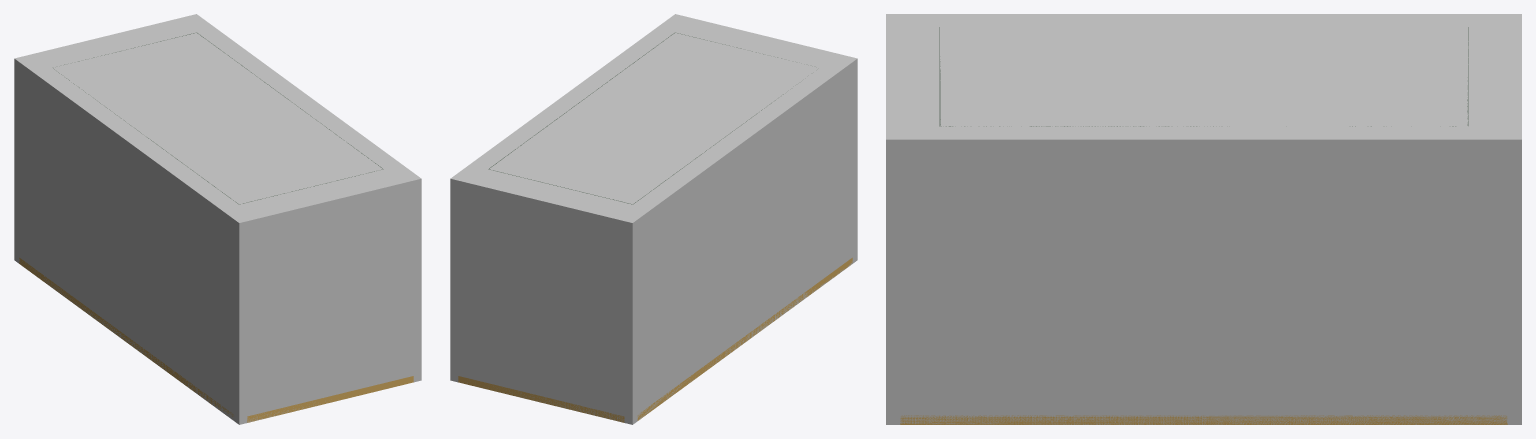
File: SM_Gun_Shop_Table.fbx
3 views of the same model, side by side, from view 1: azimuth 30°, elevation 25°; view 2: azimuth 150°, elevation 25°; view 3: azimuth 270°, elevation 25° (orthographic). The views are drawn at different scales.
Parts seen in each view (by area): view 1: SM_Gun_Shop_Table_ConvexHulls, SM_Gun_Shop_Table; view 2: SM_Gun_Shop_Table_ConvexHulls, SM_Gun_Shop_Table; view 3: SM_Gun_Shop_Table_ConvexHulls, SM_Gun_Shop_Table.
Boxes of the visible parts, box(x1,y1,x2,y2) form: SM_Gun_Shop_Table_ConvexHulls: box(14, 14, 421, 424); SM_Gun_Shop_Table: box(19, 32, 413, 422); SM_Gun_Shop_Table_ConvexHulls: box(450, 14, 857, 424); SM_Gun_Shop_Table: box(458, 32, 852, 422); SM_Gun_Shop_Table_ConvexHulls: box(886, 14, 1521, 424); SM_Gun_Shop_Table: box(900, 27, 1507, 424).
Size of the model in its own units: 103 by 221 by 109.
2 materials, 1 textured.
